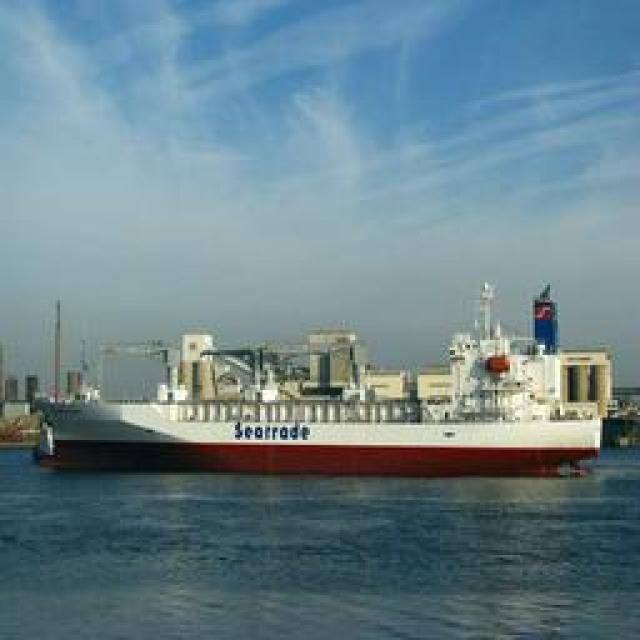CIV_Ship: (20, 284, 608, 474)
